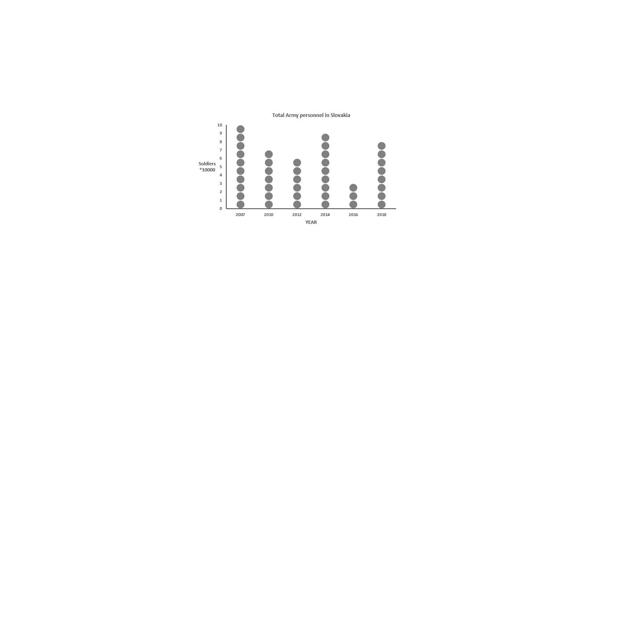Graph: (191, 108, 401, 230)
